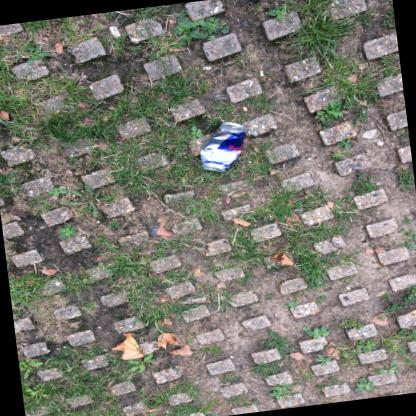Metal: (199, 121, 244, 171)
Paper: (259, 69, 262, 75)
